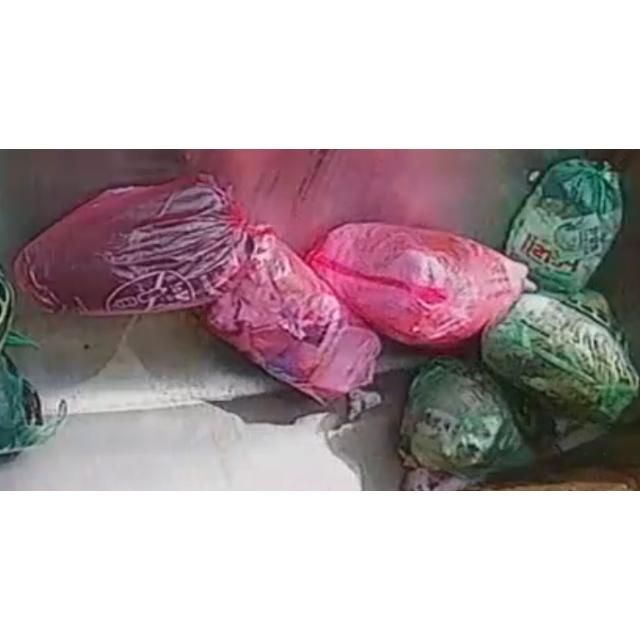general_trashbag: (481, 290, 639, 422), (400, 359, 534, 481), (506, 159, 622, 292)
other_trashbag: (14, 176, 248, 315), (206, 225, 381, 403), (306, 223, 529, 347)
